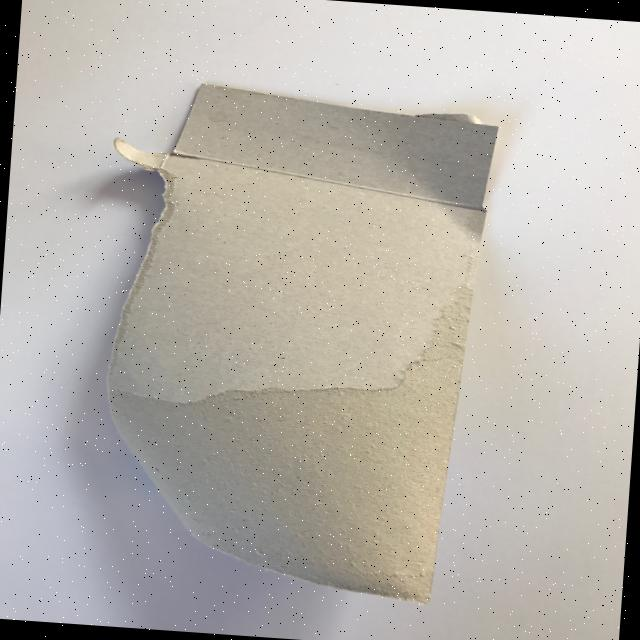paper: (83, 76, 500, 606)
